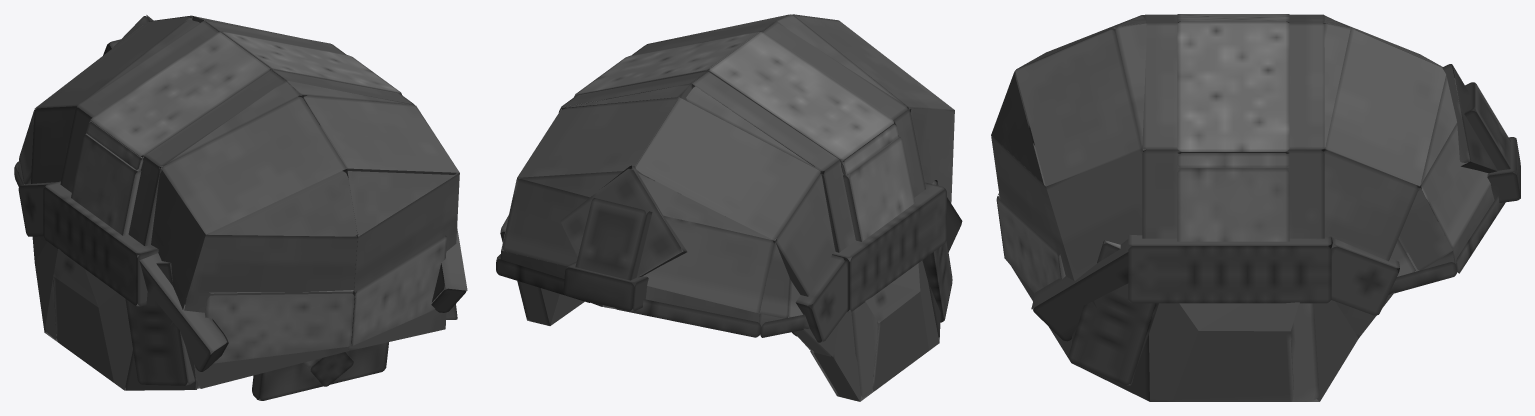
The model's file is civilian_h.obj.
3 renders of one model, left to right at view 1: azimuth 30°, elevation 25°; view 2: azimuth 150°, elevation 25°; view 3: azimuth 270°, elevation 25°, orthographic. The views are drawn at different scales.
Visible parts, largest first — view 1: cube; view 2: cube; view 3: cube.
Boxes of the visible parts, left/top/right/bottom form: cube: left=14, top=15, right=467, bottom=400; cube: left=496, top=14, right=962, bottom=401; cube: left=991, top=14, right=1520, bottom=401.
Size of the model in its own units: 0.7402 by 0.5973 by 0.9441.
